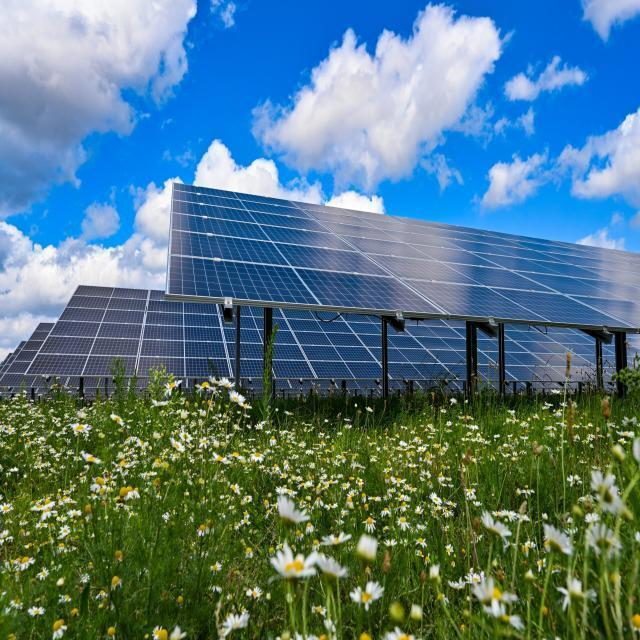Photovoltaic-Panel: (168, 180, 640, 331), (22, 287, 640, 379)
